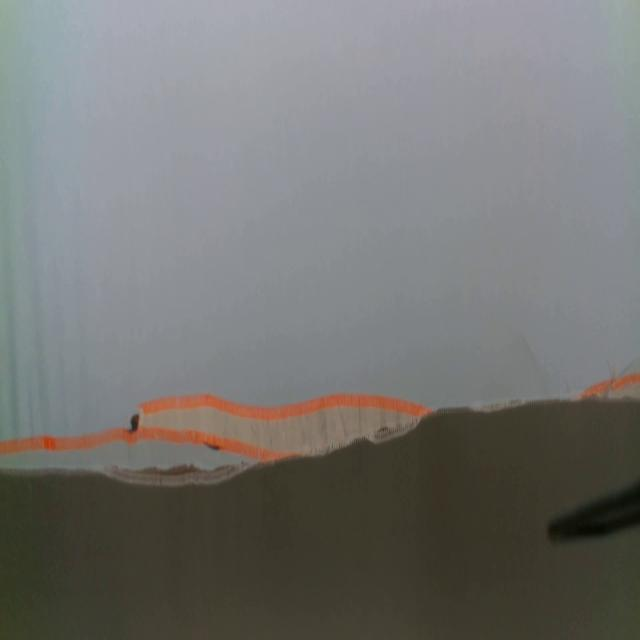hole: (126, 413, 140, 435), (204, 440, 223, 451)
